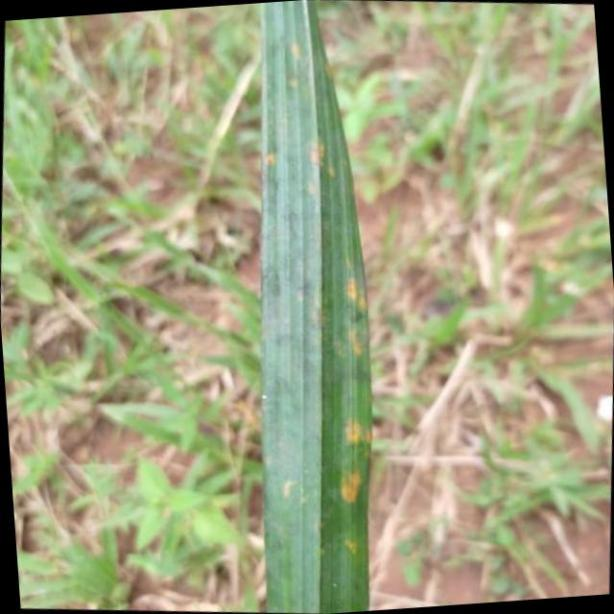Kalium: (251, 0, 379, 614)
